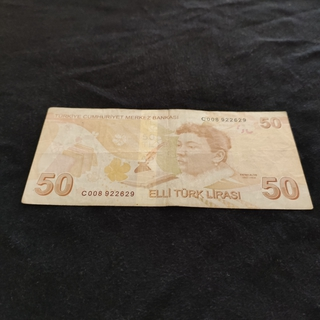50TLBack: (20, 105, 314, 209)
